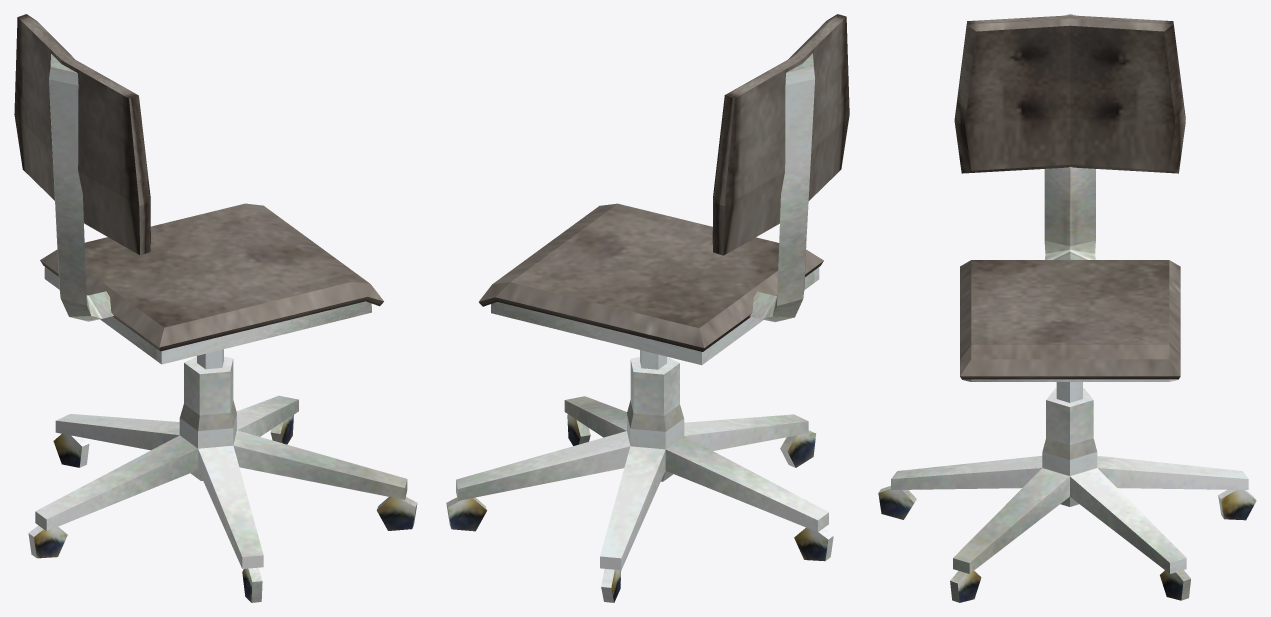
The model's file is office_chair_grey_alt.fbx.
3 renders of one model, left to right at view 1: azimuth 30°, elevation 25°; view 2: azimuth 150°, elevation 25°; view 3: azimuth 270°, elevation 25°, orthographic. The views are drawn at different scales.
Parts seen in each view (by area): view 1: office_chair_grey_alt; view 2: office_chair_grey_alt; view 3: office_chair_grey_alt.
Part boxes in pixels (bbox=[...]): office_chair_grey_alt: bbox=[14, 14, 417, 602]; office_chair_grey_alt: bbox=[446, 14, 849, 602]; office_chair_grey_alt: bbox=[878, 14, 1256, 602].
Size of the model in its own units: 75.13 by 110 by 81.96.
Materials: 1 (1 with a texture image).
